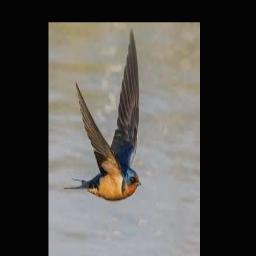Swallow: (64, 28, 142, 200)
